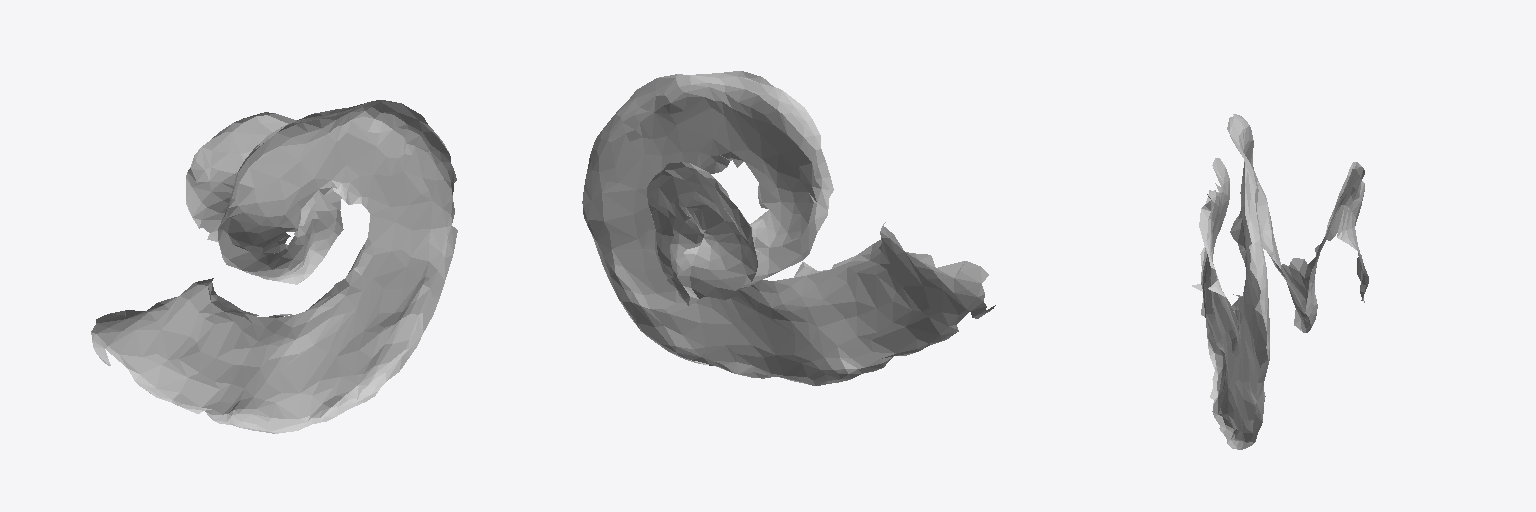
Rendered from membraneBasilaireBetterFit.obj.
3 renders of one model, left to right at view 1: azimuth 30°, elevation 25°; view 2: azimuth 150°, elevation 25°; view 3: azimuth 270°, elevation 25°, orthographic.
Visible parts, largest first — view 1: scala_tympanic_flattened_heavilyDecimated.001_scala_tympanic_fla; view 2: scala_tympanic_flattened_heavilyDecimated.001_scala_tympanic_fla; view 3: scala_tympanic_flattened_heavilyDecimated.001_scala_tympanic_fla.
Part boxes in pixels (bbox=[...]): scala_tympanic_flattened_heavilyDecimated.001_scala_tympanic_fla: bbox=[91, 100, 457, 433]; scala_tympanic_flattened_heavilyDecimated.001_scala_tympanic_fla: bbox=[582, 71, 995, 385]; scala_tympanic_flattened_heavilyDecimated.001_scala_tympanic_fla: bbox=[1192, 114, 1368, 449].
Size of the model in its own units: 9.38 by 7.12 by 3.75.